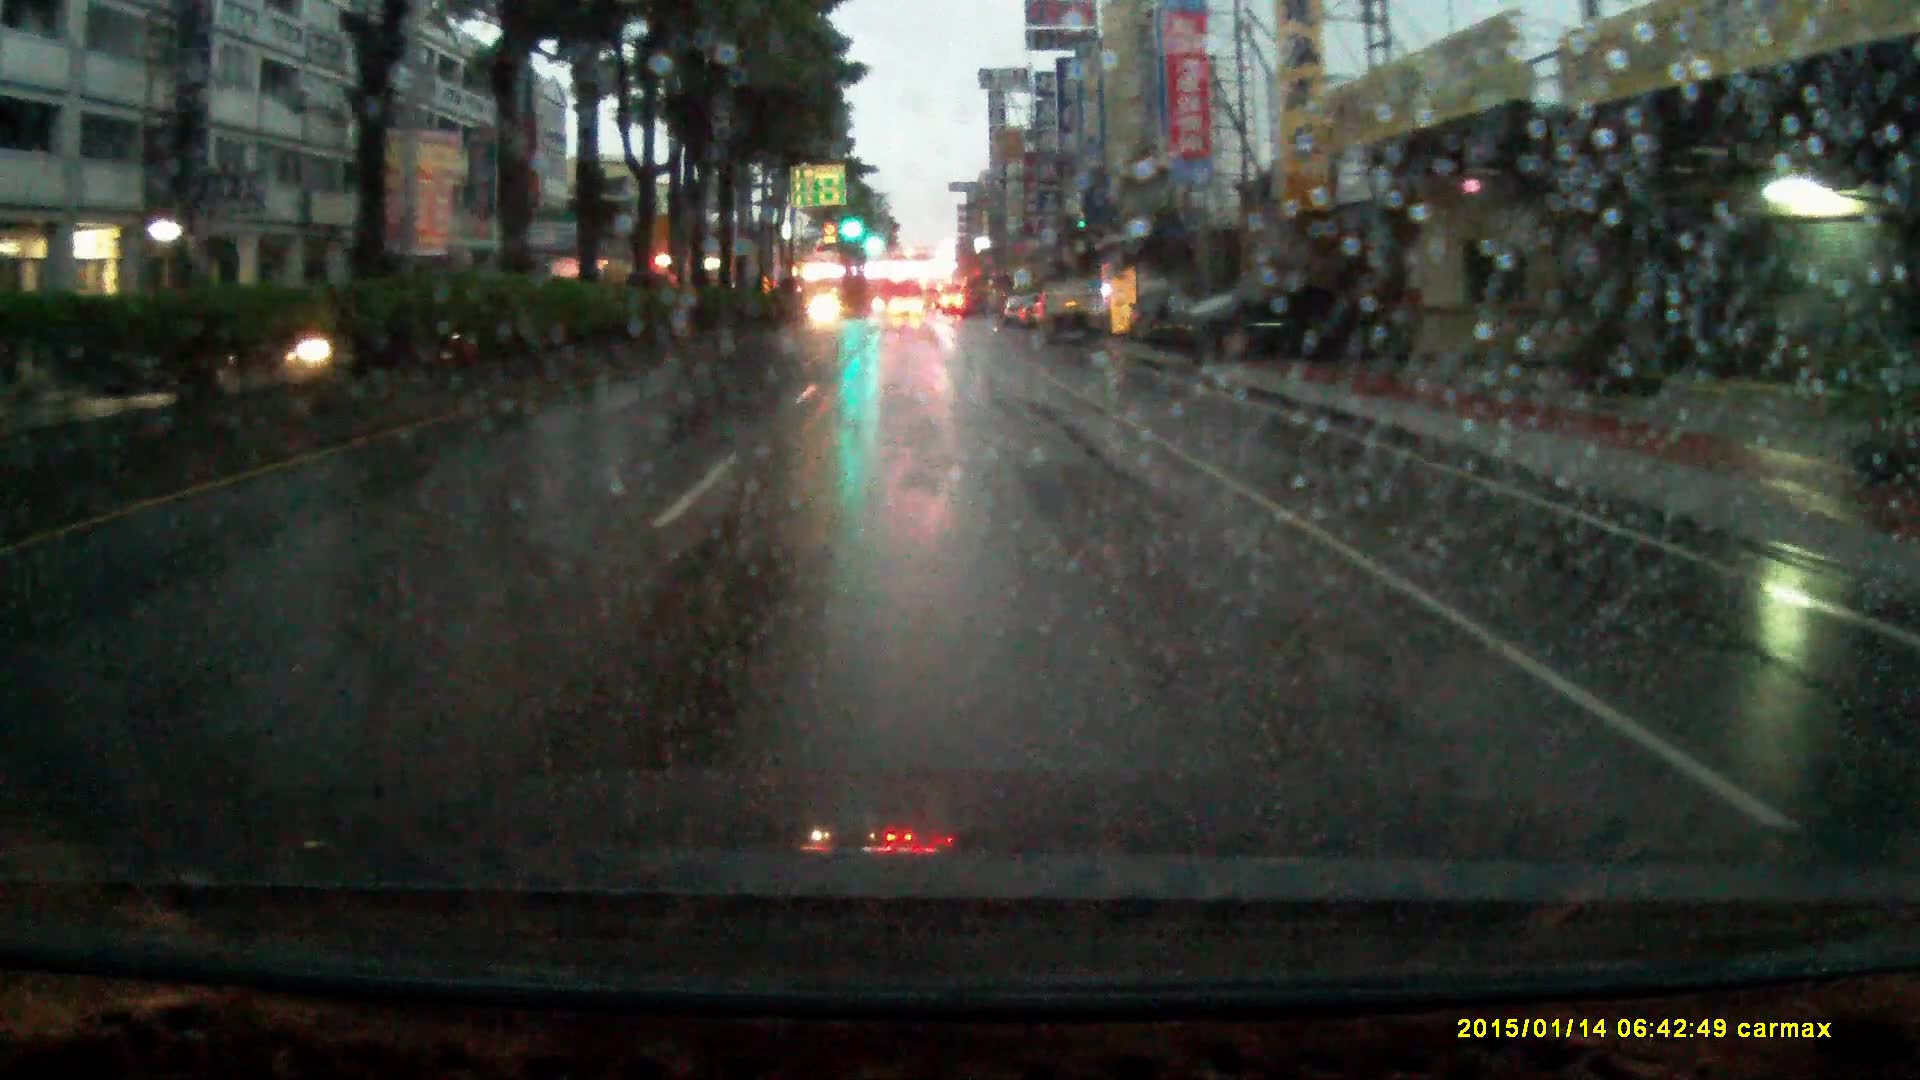vehicle: (1149, 294, 1404, 365), (1038, 284, 1104, 338), (808, 301, 845, 331), (887, 299, 927, 326)
